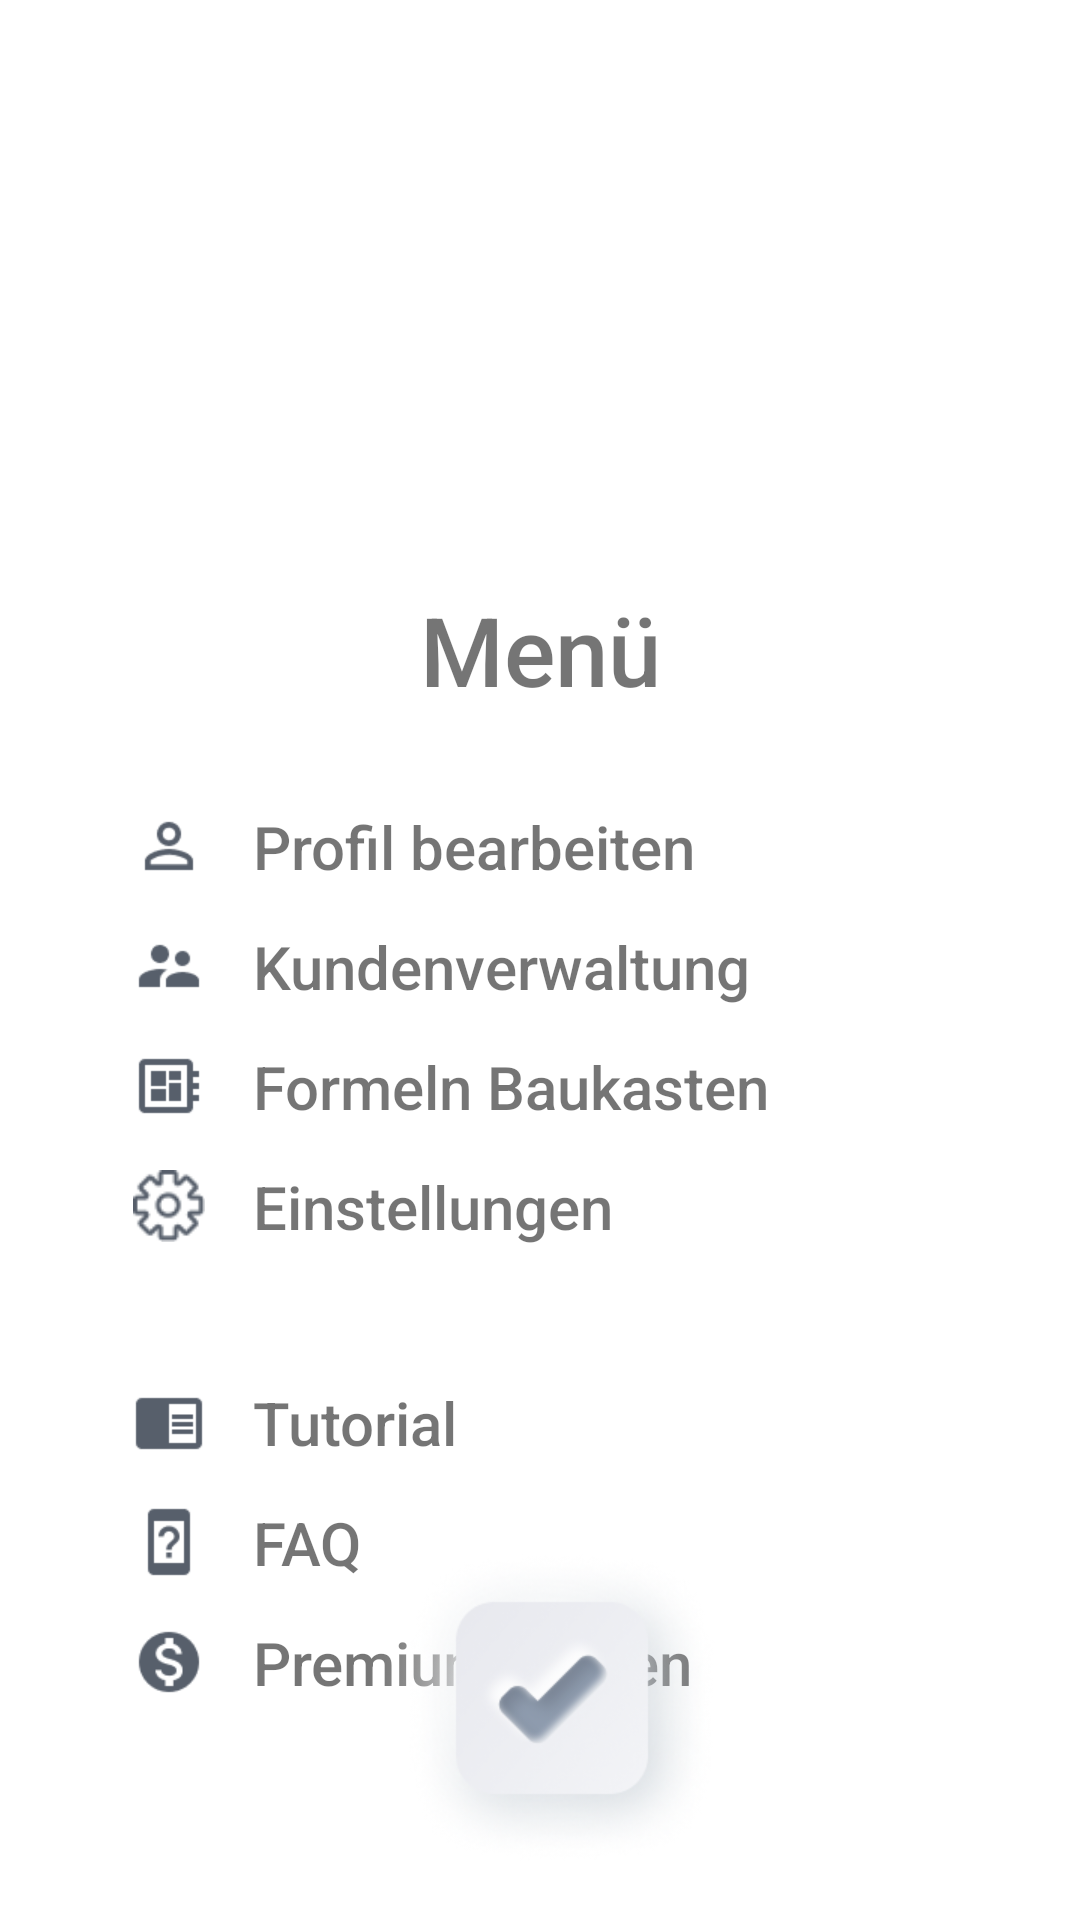

Named icons in this screenshot (1080*1920) and their bounding boxes, {"left": x1, "top": y1, "right": x2, "bottom": y2}:
profile: {"left": 144, "top": 821, "right": 194, "bottom": 871}
settings: {"left": 133, "top": 1170, "right": 205, "bottom": 1242}
